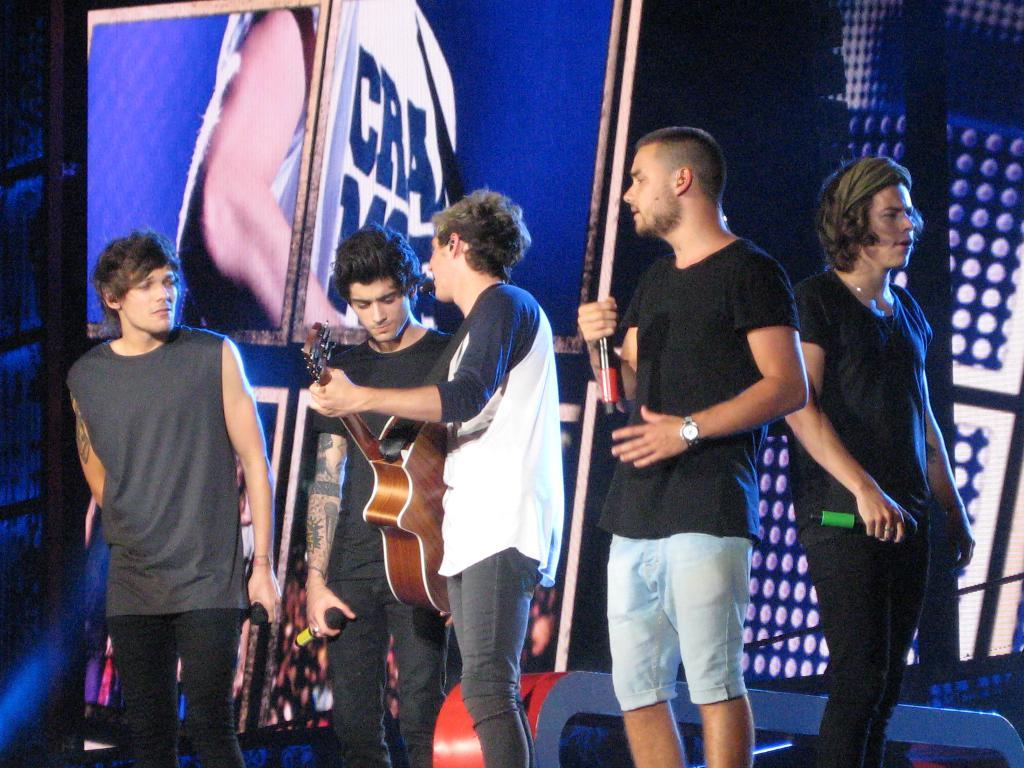Sem Máscara: (620, 145, 673, 234), (863, 184, 914, 267), (352, 273, 412, 339), (120, 263, 173, 332), (427, 227, 448, 296)
